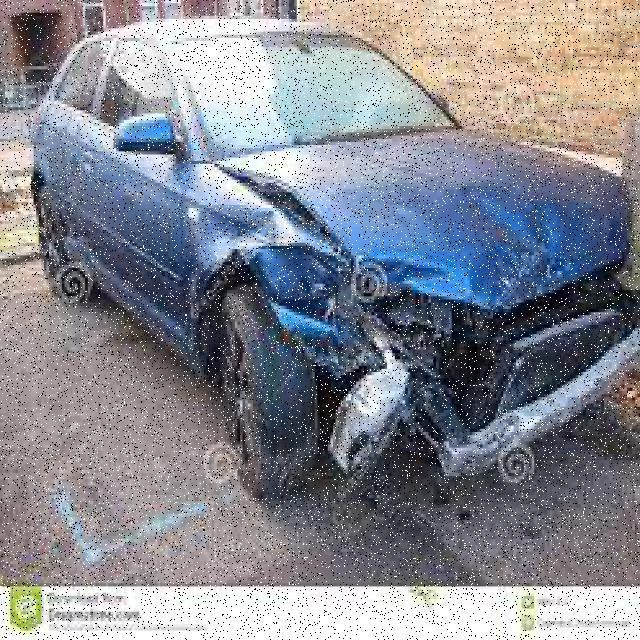bumper: (194, 199, 331, 382)
headlight: (312, 125, 630, 295)
hood: (333, 265, 638, 489)
